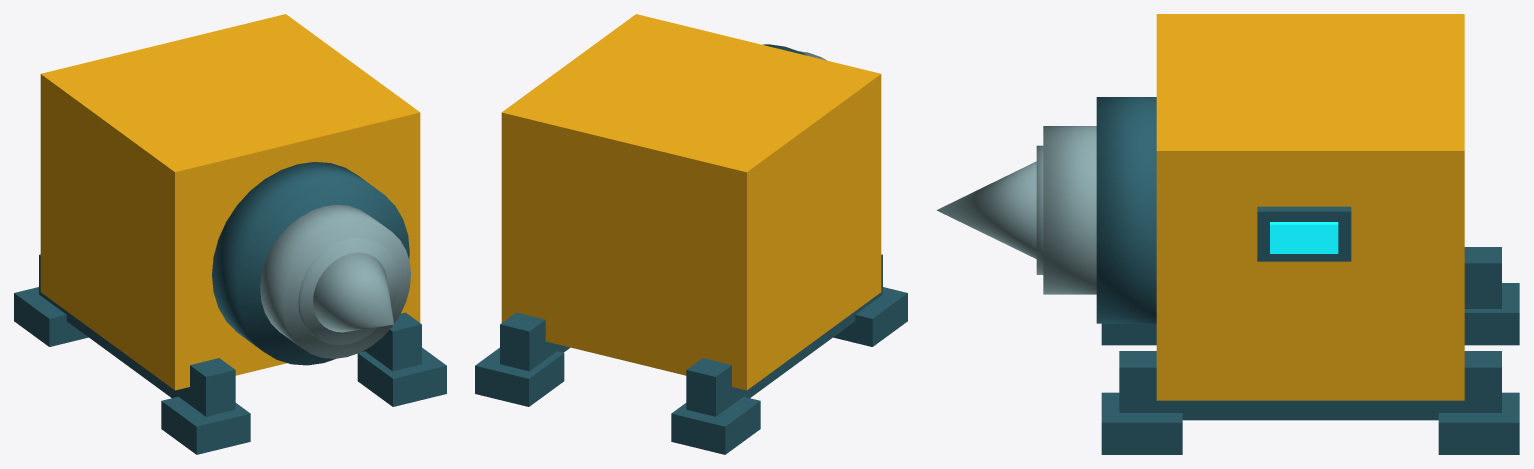
File: drill.glb
The picture shows the model from 3 angles, left to right: view 1: azimuth 30°, elevation 25°; view 2: azimuth 150°, elevation 25°; view 3: azimuth 270°, elevation 25°; orthographic projection. The views are drawn at different scales.
Parts seen in each view (by area): view 1: Drill housing, Drill collar, Drill spindle, Drill bit, Drill support, Drill foot, Drill metal ring.001, Drill foot.002, Drill foot.001, Drill support.001; view 2: Drill housing, Drill support, Drill foot.001, Drill foot.003, Drill support.001, Drill foot; view 3: Drill housing, Drill collar, Drill support.001, Drill spindle, Drill bit, Drill foot.002, Drill foot.003, Drill indicator bezel, Drill foot.001, Drill support, Drill indicator, Drill foot (+1 smaller).
Boxes of the visible parts, bbox=[...] form: Drill housing: bbox=[40, 14, 420, 390]; Drill collar: bbox=[212, 162, 409, 365]; Drill spindle: bbox=[260, 204, 410, 358]; Drill bit: bbox=[313, 252, 393, 332]; Drill support: bbox=[39, 254, 235, 416]; Drill foot: bbox=[161, 396, 250, 454]; Drill metal ring.001: bbox=[298, 237, 399, 344]; Drill foot.002: bbox=[357, 347, 446, 406]; Drill foot.001: bbox=[14, 287, 88, 346]; Drill support.001: bbox=[362, 312, 421, 371]; Drill housing: bbox=[501, 14, 881, 390]; Drill support: bbox=[686, 254, 882, 416]; Drill foot.001: bbox=[671, 396, 760, 454]; Drill foot.003: bbox=[475, 347, 564, 406]; Drill support.001: bbox=[500, 312, 570, 371]; Drill foot: bbox=[833, 287, 907, 346]; Drill housing: bbox=[1156, 14, 1464, 400]; Drill collar: bbox=[1096, 97, 1156, 323]; Drill support.001: bbox=[1119, 351, 1501, 420]; Drill spindle: bbox=[1043, 126, 1096, 294]; Drill bit: bbox=[936, 161, 1036, 258]; Drill foot.002: bbox=[1101, 392, 1182, 454]; Drill foot.003: bbox=[1438, 392, 1519, 454]; Drill indicator bezel: bbox=[1257, 206, 1351, 261]; Drill foot.001: bbox=[1464, 283, 1519, 345]; Drill support: bbox=[1464, 247, 1501, 308]; Drill indicator: bbox=[1270, 222, 1338, 253]; Drill foot: bbox=[1101, 323, 1156, 345].
Size of the model in its own units: 1.07 by 1.03 by 1.8.
